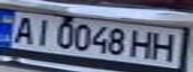0: (51, 18, 75, 51), (72, 21, 93, 53)
4: (90, 24, 112, 55)
8: (106, 25, 130, 56)
A: (6, 14, 39, 44)
H: (148, 29, 181, 63), (127, 28, 157, 60)
I: (30, 16, 54, 46)
